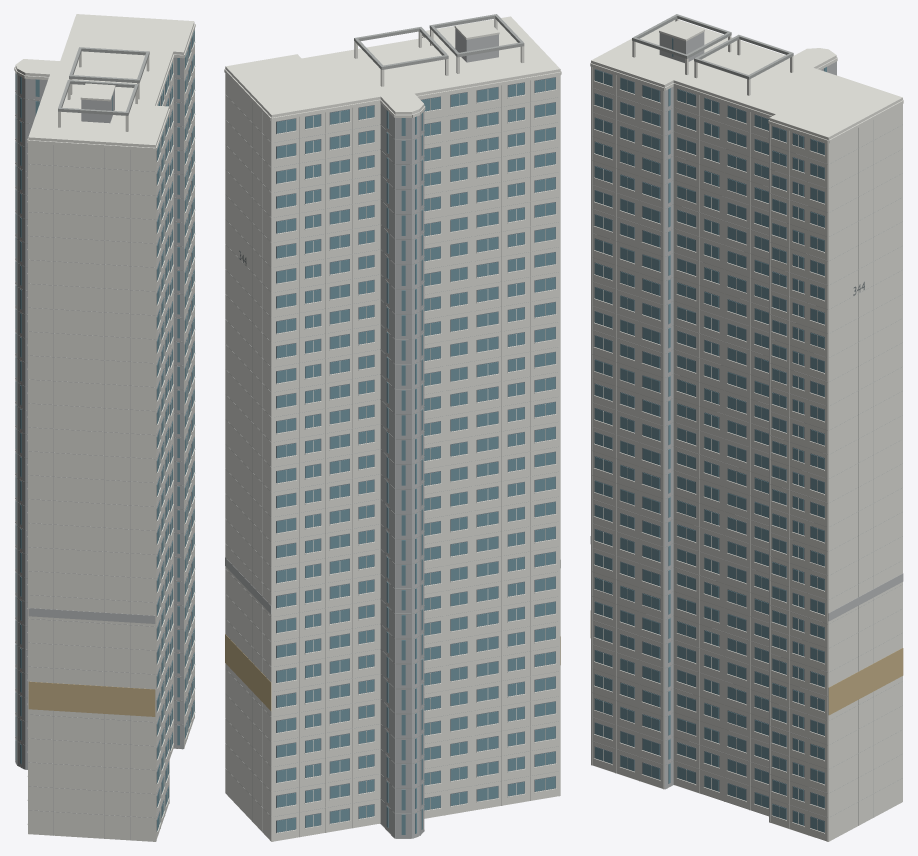
The model's file is bespoke-jamsil-trizium-344.glb.
The picture shows the model from 3 angles, left to right: view 1: azimuth 30°, elevation 25°; view 2: azimuth 150°, elevation 25°; view 3: azimuth 270°, elevation 25°; orthographic projection. The views are drawn at different scales.
Visible parts, largest first — view 1: Trizium344_editable_Trizium344_broad_white_facade_frames002, Trizium344_editable_Trizium344_light_grey_solid_wall002, Trizium344_editable_Trizium344_turquoise_balcony_glazing002, Trizium344_editable_Trizium344_dark_horizontal_spandrels_and, Trizium344_editable_Trizium344_muted_ground_wall002, Trizium344_editable_Trizium344_modest_grey_flat_roof_caps002; view 2: Trizium344_editable_Trizium344_broad_white_facade_frames002, Trizium344_editable_Trizium344_turquoise_balcony_glazing002, Trizium344_editable_Trizium344_light_grey_solid_wall002, Trizium344_editable_Trizium344_dark_horizontal_spandrels_and, Trizium344_editable_Trizium344_modest_grey_flat_roof_caps002, Trizium344_editable_Trizium344_muted_ground_wall002; view 3: Trizium344_editable_Trizium344_broad_white_facade_frames002, Trizium344_editable_Trizium344_turquoise_balcony_glazing002, Trizium344_editable_Trizium344_light_grey_solid_wall002, Trizium344_editable_Trizium344_dark_horizontal_spandrels_and, Trizium344_editable_Trizium344_modest_grey_flat_roof_caps002, Trizium344_editable_Trizium344_muted_ground_wall002.
Boxes of the visible parts, bbox=[...] form: Trizium344_editable_Trizium344_broad_white_facade_frames002: bbox=[14, 14, 195, 841]; Trizium344_editable_Trizium344_light_grey_solid_wall002: bbox=[15, 48, 194, 840]; Trizium344_editable_Trizium344_turquoise_balcony_glazing002: bbox=[15, 30, 194, 830]; Trizium344_editable_Trizium344_dark_horizontal_spandrels_and: bbox=[156, 38, 194, 831]; Trizium344_editable_Trizium344_muted_ground_wall002: bbox=[28, 681, 155, 716]; Trizium344_editable_Trizium344_modest_grey_flat_roof_caps002: bbox=[15, 47, 183, 769]; Trizium344_editable_Trizium344_broad_white_facade_frames002: bbox=[224, 16, 561, 841]; Trizium344_editable_Trizium344_turquoise_balcony_glazing002: bbox=[276, 77, 555, 834]; Trizium344_editable_Trizium344_light_grey_solid_wall002: bbox=[225, 28, 560, 838]; Trizium344_editable_Trizium344_dark_horizontal_spandrels_and: bbox=[276, 77, 555, 832]; Trizium344_editable_Trizium344_modest_grey_flat_roof_caps002: bbox=[354, 14, 524, 838]; Trizium344_editable_Trizium344_muted_ground_wall002: bbox=[225, 634, 560, 710]; Trizium344_editable_Trizium344_broad_white_facade_frames002: bbox=[590, 18, 903, 841]; Trizium344_editable_Trizium344_turquoise_balcony_glazing002: bbox=[594, 38, 826, 832]; Trizium344_editable_Trizium344_light_grey_solid_wall002: bbox=[590, 32, 903, 825]; Trizium344_editable_Trizium344_dark_horizontal_spandrels_and: bbox=[594, 69, 824, 832]; Trizium344_editable_Trizium344_modest_grey_flat_roof_caps002: bbox=[632, 14, 793, 789]; Trizium344_editable_Trizium344_muted_ground_wall002: bbox=[590, 610, 903, 715].
Bounding box in the file's own units: 28.99 × 81.47 × 31.79.
